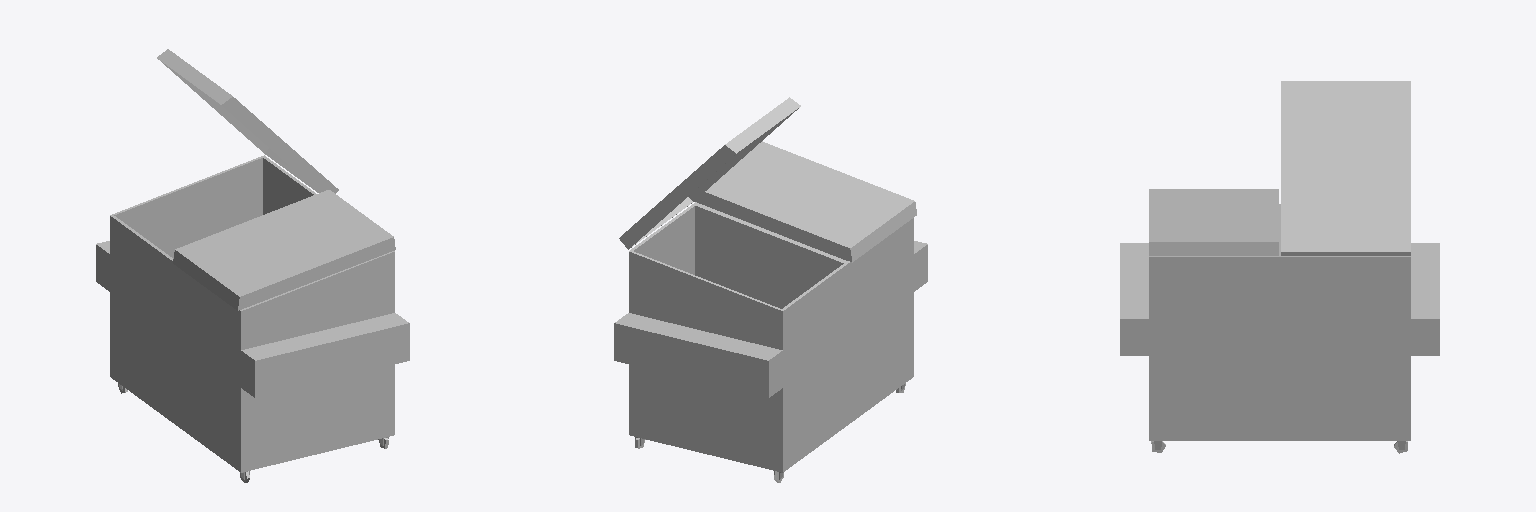
The model's file is trash_bin_static1.obj.
3 views of the same model, side by side, from view 1: azimuth 30°, elevation 25°; view 2: azimuth 150°, elevation 25°; view 3: azimuth 270°, elevation 25° (orthographic).
Parts seen in each view (by area): view 1: waste_containter_solid; view 2: waste_containter_solid; view 3: waste_containter_solid.
Part boxes in pixels (bbox=[...]): waste_containter_solid: bbox=[96, 49, 409, 482]; waste_containter_solid: bbox=[614, 97, 927, 482]; waste_containter_solid: bbox=[1120, 81, 1439, 453].
Size of the model in its own units: 1.36 by 2.55 by 2.24.